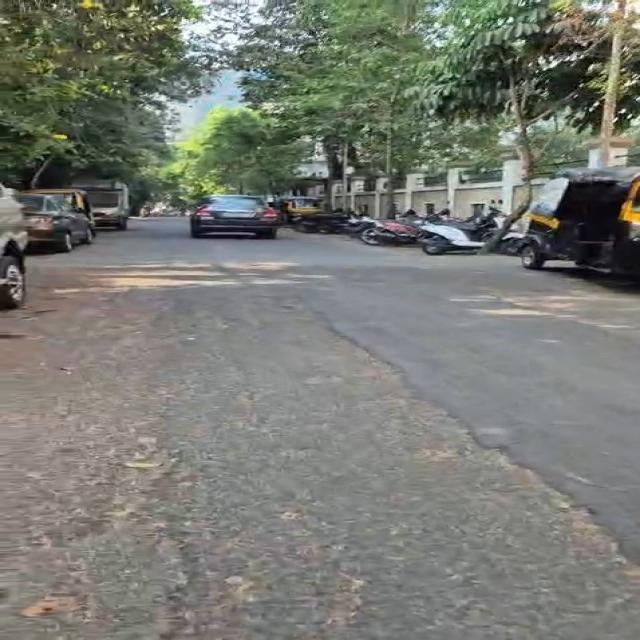car: (21, 194, 95, 252), (191, 195, 282, 238), (0, 184, 28, 309)
rickshaw: (521, 167, 639, 276), (23, 189, 95, 230), (283, 197, 324, 222)
scooter: (422, 213, 503, 255), (358, 213, 445, 245), (359, 220, 424, 246)
